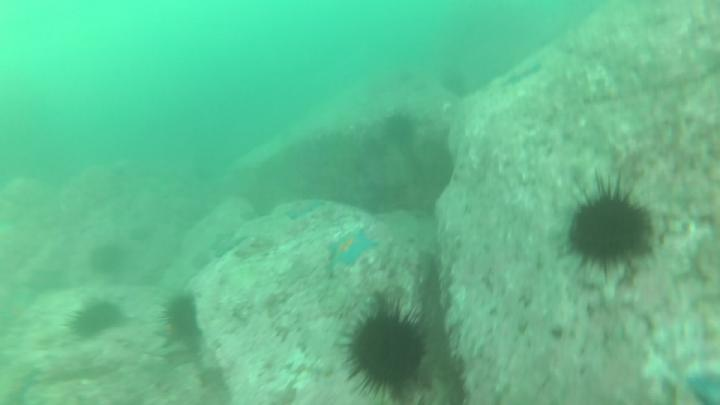echinus: (556, 175, 659, 284), (335, 302, 432, 403), (68, 295, 124, 344), (164, 293, 203, 337), (380, 112, 421, 151), (88, 242, 125, 275), (440, 69, 472, 100)
starfish: (325, 229, 381, 270), (687, 370, 720, 405), (284, 197, 328, 223), (207, 231, 238, 257)
